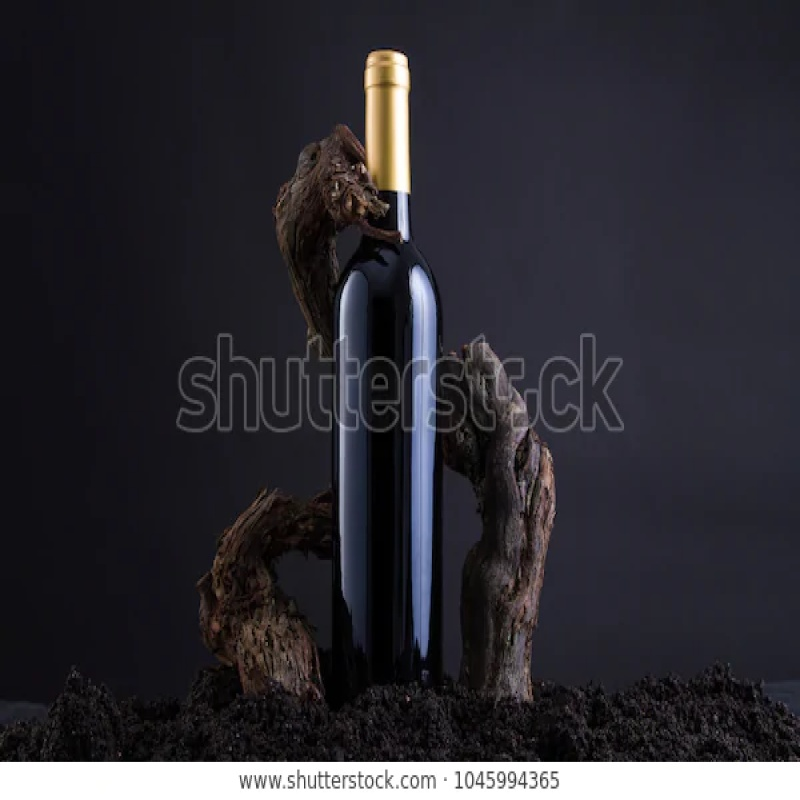wine: (328, 48, 443, 686)
